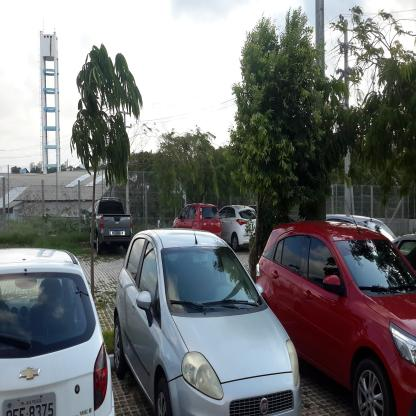PlacaM: (110, 230, 125, 235)
